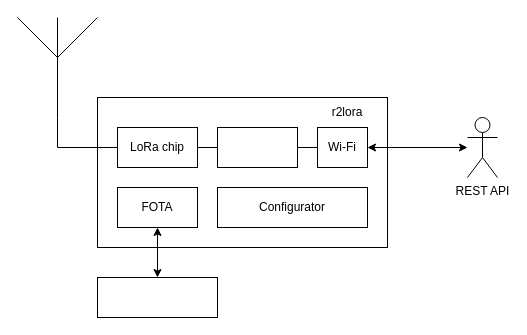
This 527x335 diagram has some shape labels left out. Here are the shapes that lost their labels. From the top down, the centre of each, then its label:
(257,147): Web server
(157,297): apt.leosatdata.com
